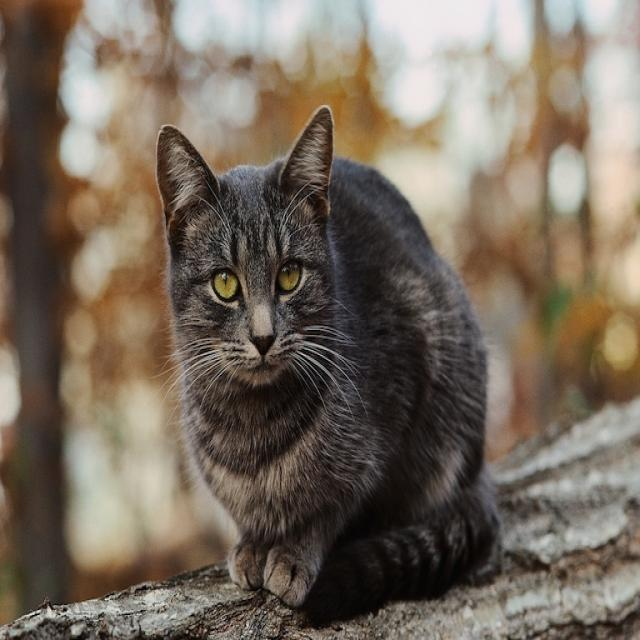cat: (156, 107, 499, 620)
